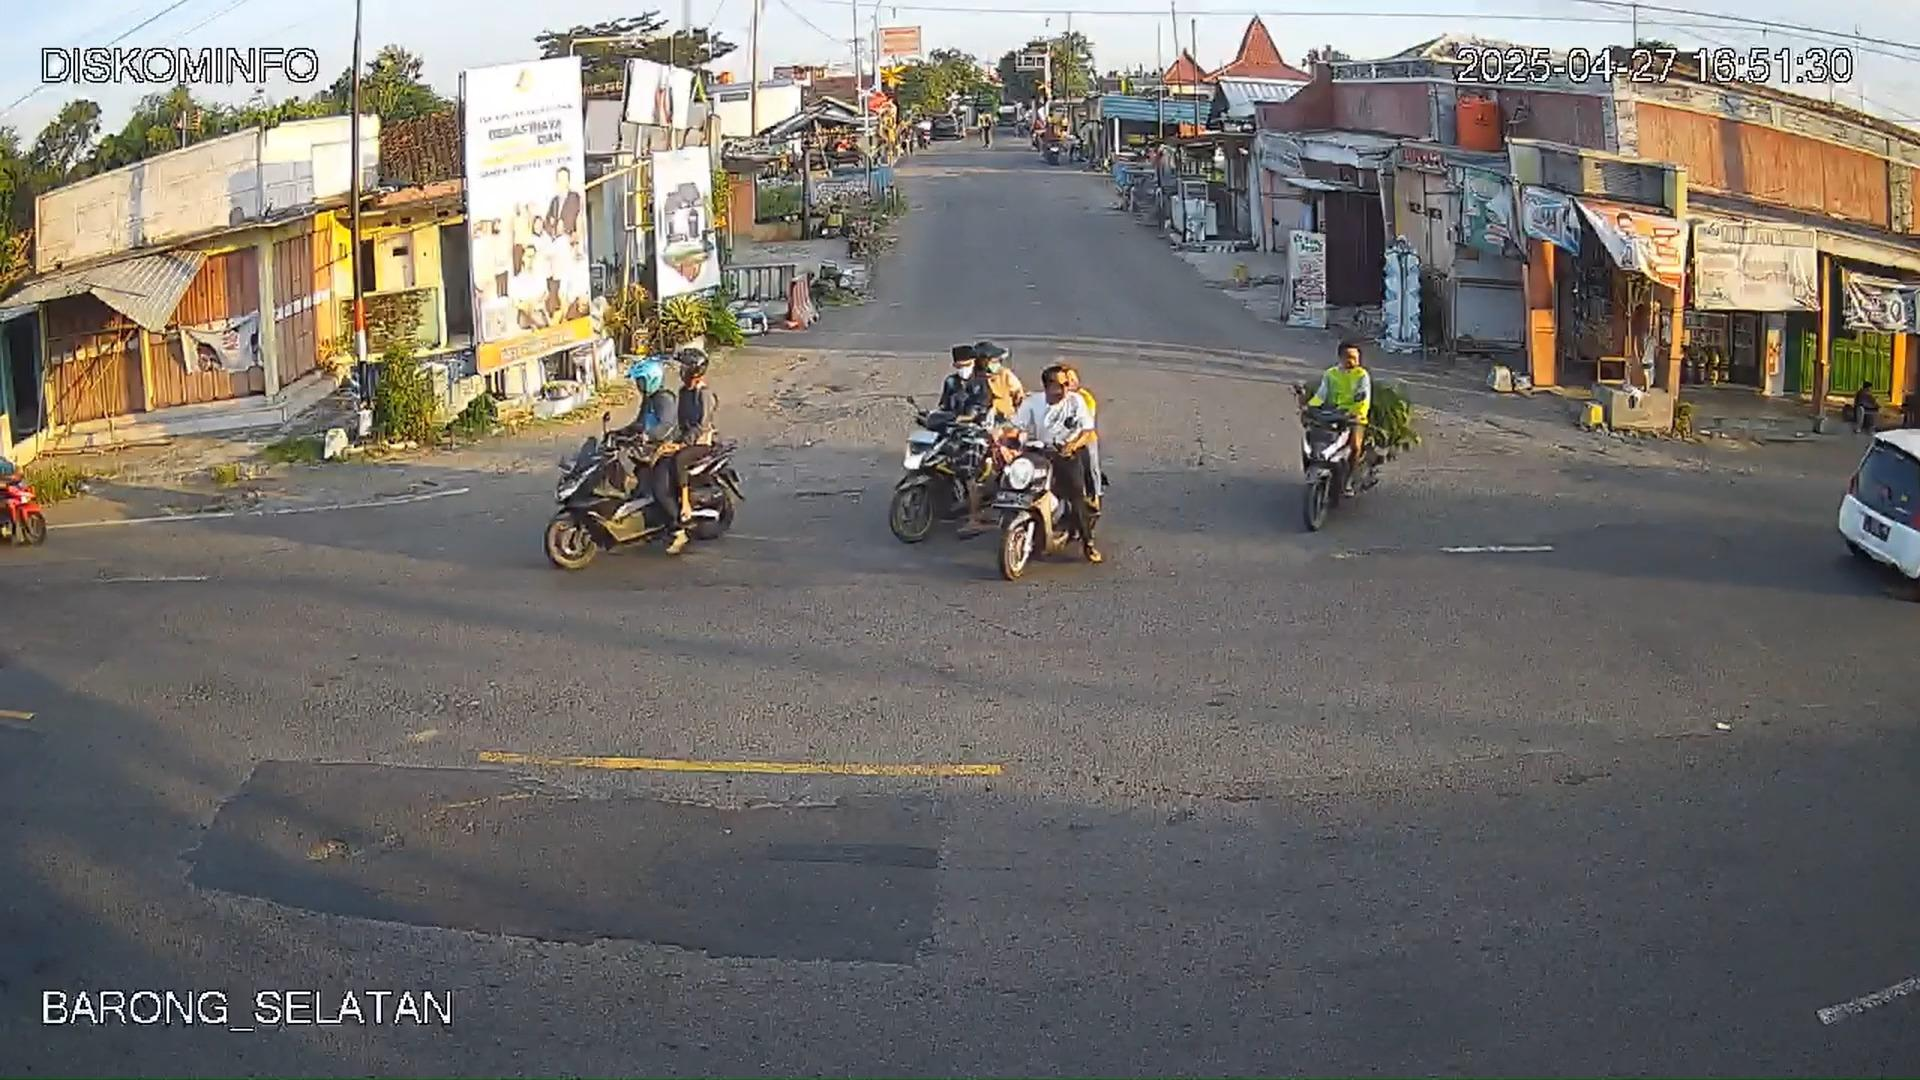Motor: (541, 410, 744, 572), (884, 367, 994, 550), (1005, 360, 1102, 564), (1287, 388, 1377, 533)
mobil: (1834, 427, 1917, 596)
